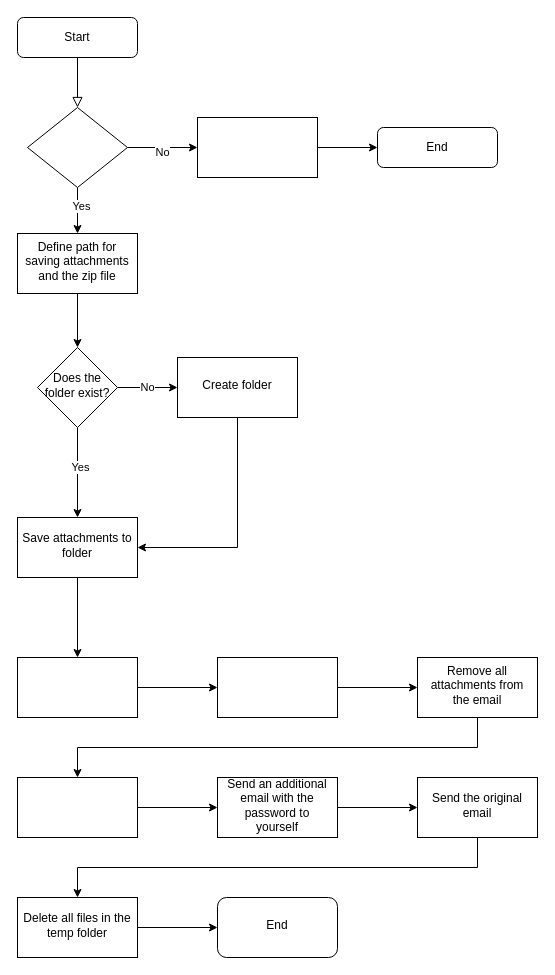
This 555x975 diagram has some shape labels left out. Each missing label, with the centre of its shape:
"Are there attachments or not?" goes at point 77,147.
"Attach the zip file to the current email" goes at point 77,807.
"Create the zip file using WinZip command line with password" goes at point 277,687.
"Generate a random 8-character password" goes at point 77,687.
"Send Email" goes at point 257,147.
